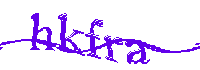a: (125, 38, 150, 65)
f: (84, 17, 105, 61)
h: (30, 12, 54, 52)
k: (57, 12, 84, 57)
r: (104, 35, 123, 64)
